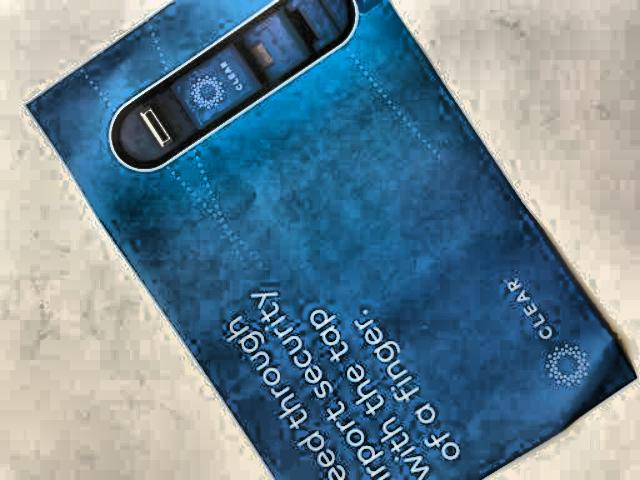Paper: (25, 0, 632, 480)
